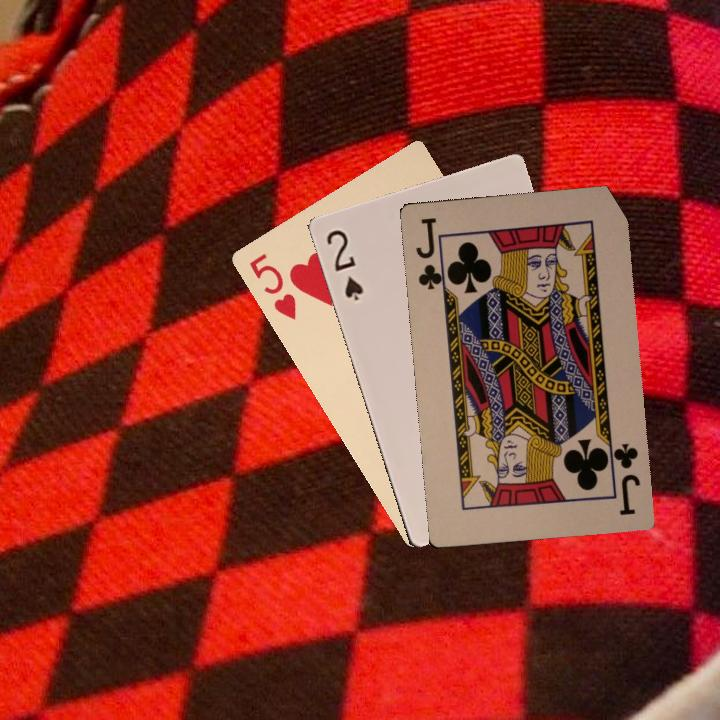2s: (322, 225, 366, 302)
5h: (245, 249, 299, 323)
Jc: (603, 438, 643, 518), (412, 213, 450, 293)
